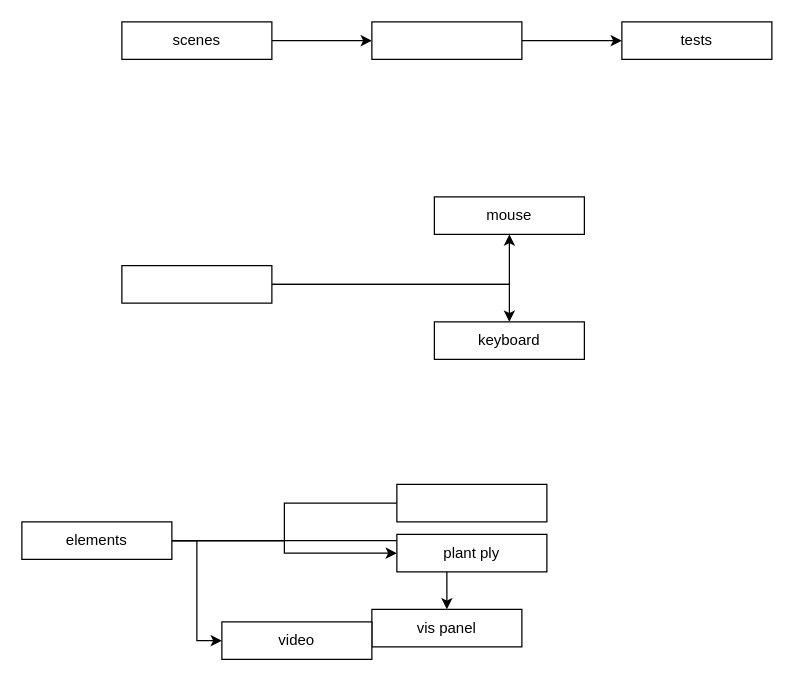
Image size: 794x681. Some labels were removed from this diagram. The centre of each missing label's shape, as x and y in pixels:
"area" goes at point 471,502.
"controls" goes at point 196,283.
"s1" goes at point 446,40.
